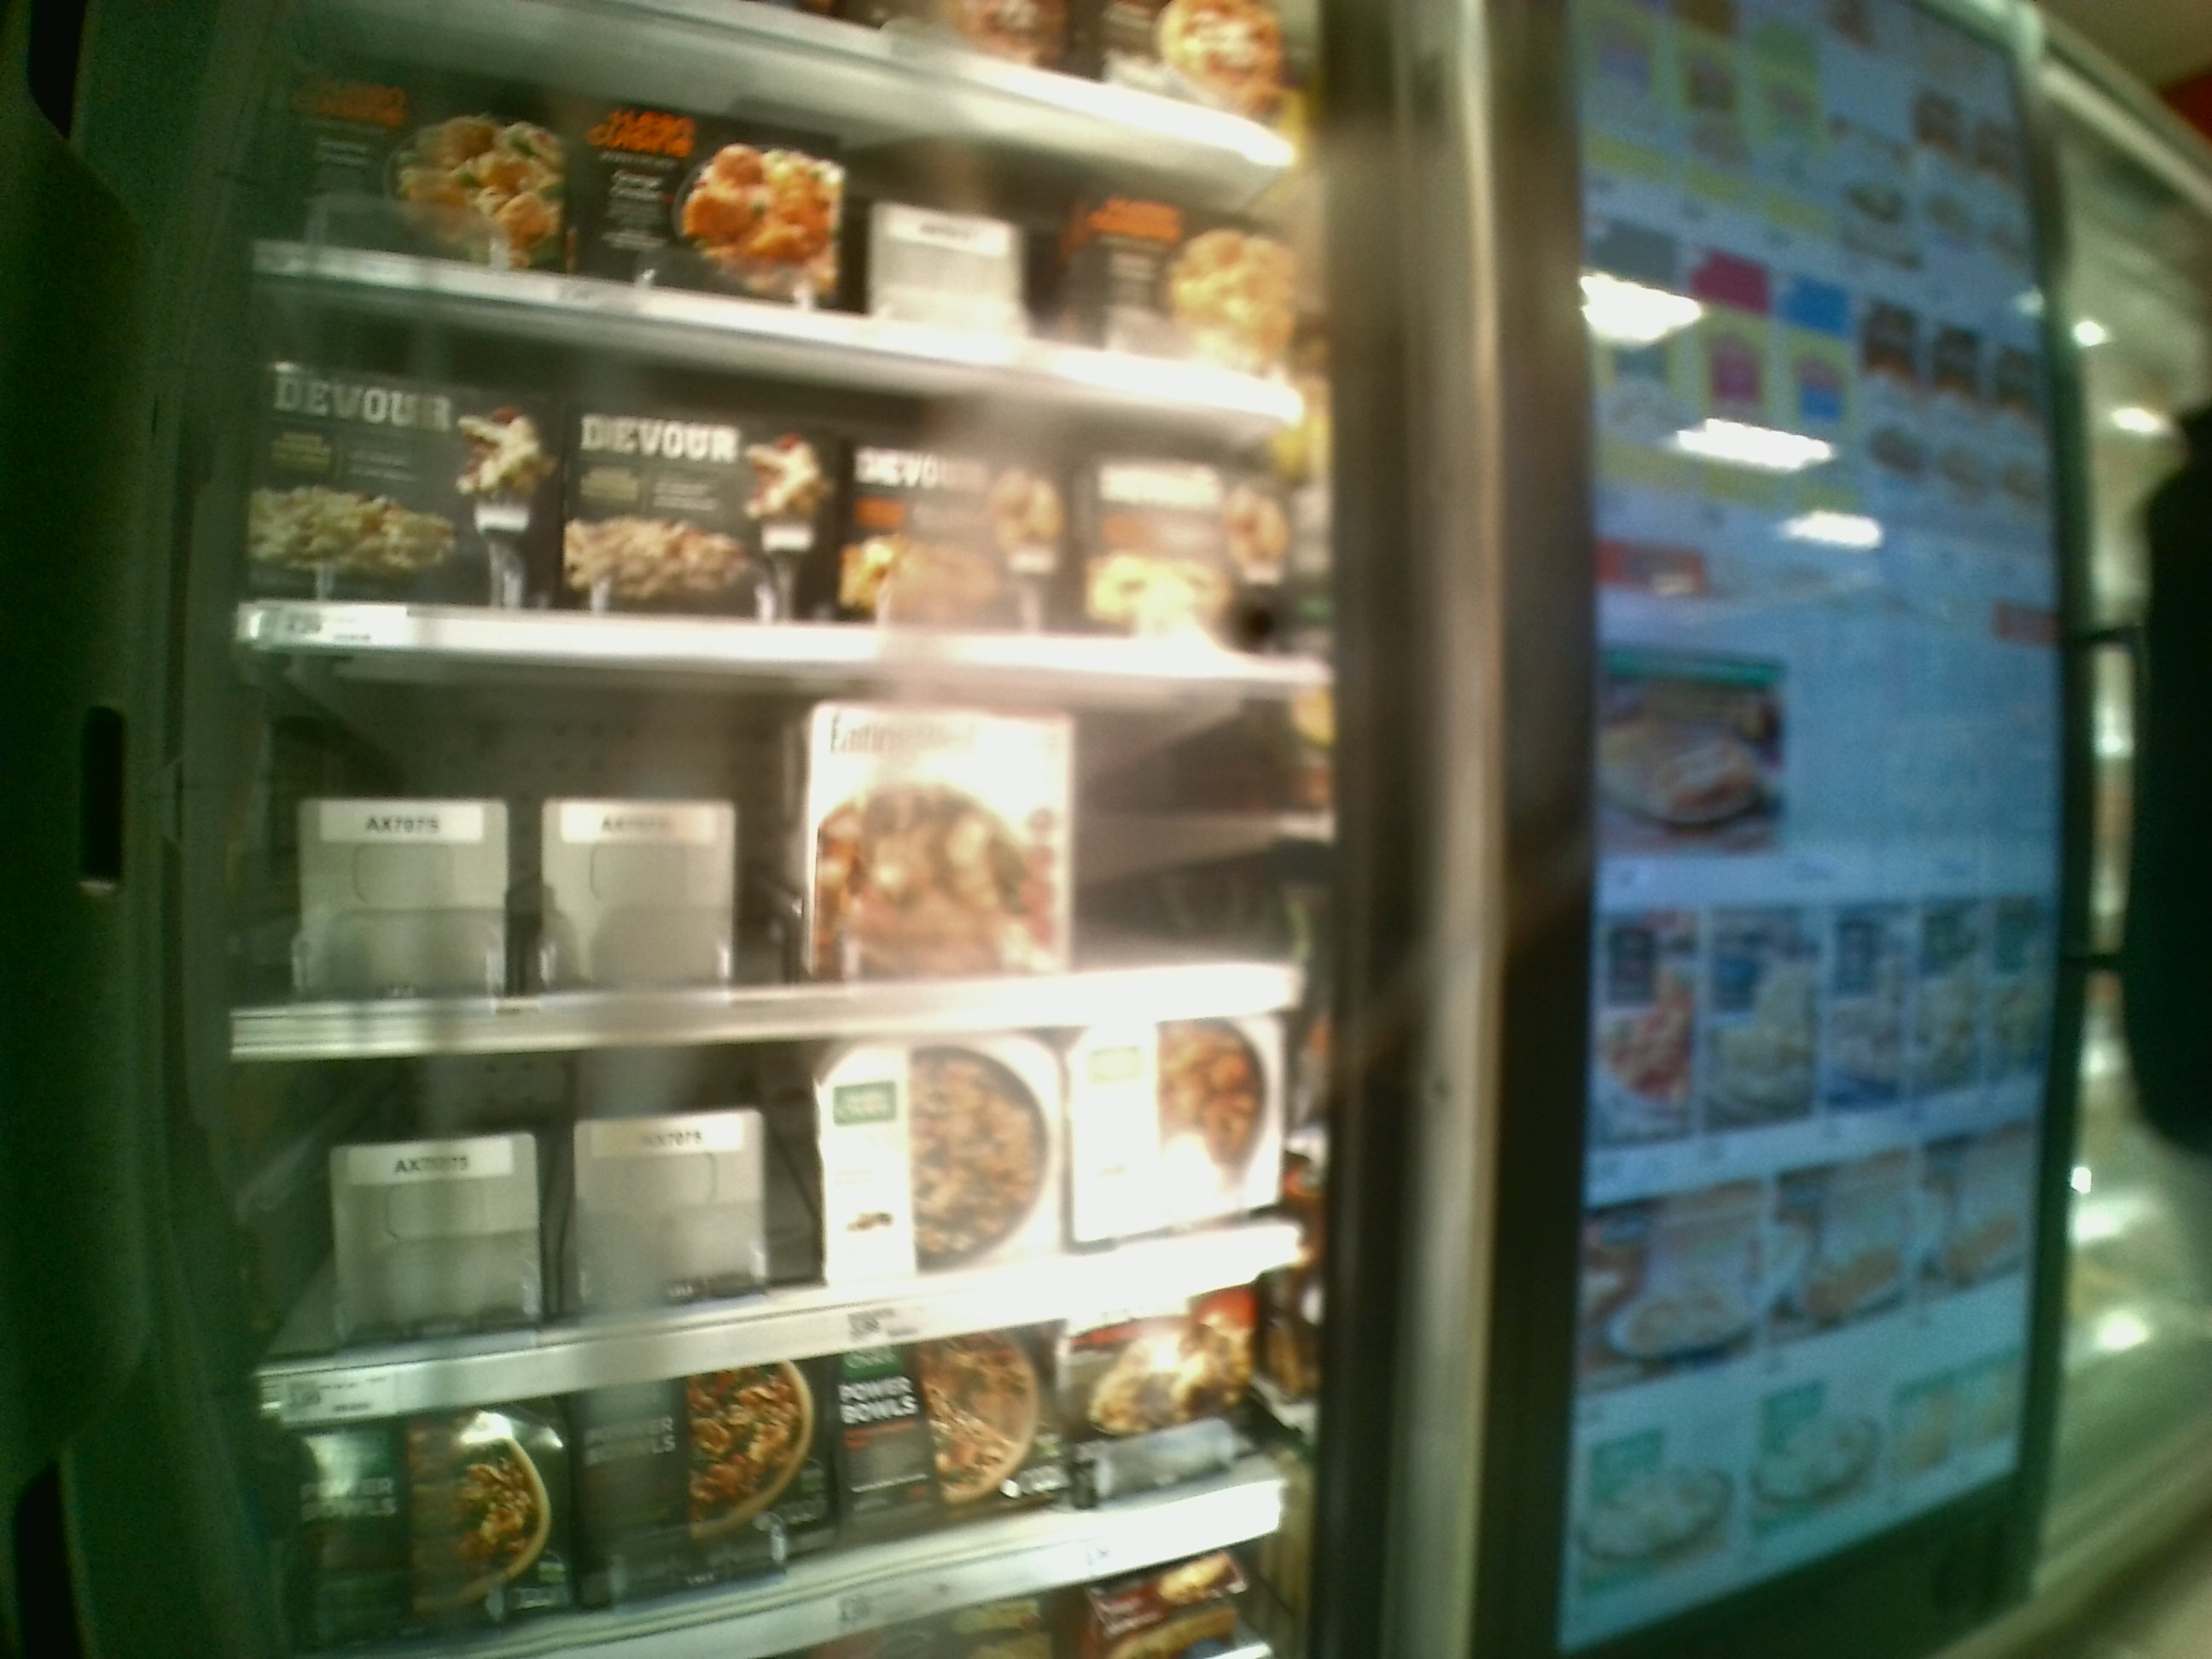shelf: (223, 626, 1313, 1047)
